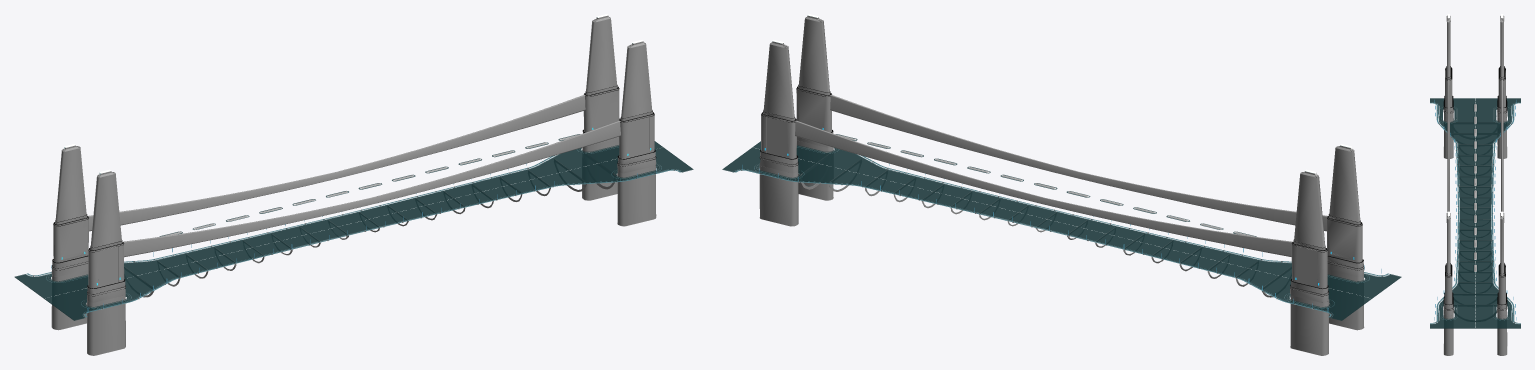
Rendered from bridge.glb.
3 renders of one model, left to right at view 1: azimuth 30°, elevation 25°; view 2: azimuth 150°, elevation 25°; view 3: azimuth 270°, elevation 25°, orthographic. The views are drawn at different scales.
Visible parts, largest first — view 1: Cylinder.001_Matte Steel_0, Cube_Glass Road_0, Cylinder.002_Matte Steel_0, Cube_Dim Neon_0, Cube.001_Matte Steel_0, Cylinder.001_Gloss Black_0, Cylinder.003_Matte Steel_0, Cylinder.003_Glass Road_0; view 2: Cylinder.001_Matte Steel_0, Cube_Glass Road_0, Cylinder.002_Matte Steel_0, Cube_Dim Neon_0, Cube.001_Matte Steel_0, Cylinder.001_Gloss Black_0, Cylinder.003_Matte Steel_0, Cylinder.003_Glass Road_0; view 3: Cube_Glass Road_0, Cylinder.001_Matte Steel_0, Cube_Dim Neon_0, Cylinder.002_Matte Steel_0, Cylinder.001_Gloss Black_0, Cube.001_Matte Steel_0, Cylinder.003_Matte Steel_0, Cylinder.003_Glass Road_0, Cylinder.004_Flag Light_0.
Boxes of the visible parts, bbox=[...] form: Cylinder.001_Matte Steel_0: bbox=[51, 15, 656, 355]; Cube_Glass Road_0: bbox=[14, 141, 693, 320]; Cylinder.002_Matte Steel_0: bbox=[82, 94, 622, 257]; Cube_Dim Neon_0: bbox=[25, 147, 682, 317]; Cube.001_Matte Steel_0: bbox=[124, 151, 615, 297]; Cylinder.001_Gloss Black_0: bbox=[51, 85, 656, 296]; Cylinder.003_Matte Steel_0: bbox=[161, 134, 579, 236]; Cylinder.003_Glass Road_0: bbox=[159, 134, 579, 236]; Cylinder.001_Matte Steel_0: bbox=[759, 15, 1364, 355]; Cube_Glass Road_0: bbox=[722, 141, 1401, 320]; Cylinder.002_Matte Steel_0: bbox=[789, 94, 1333, 256]; Cube_Dim Neon_0: bbox=[733, 147, 1390, 317]; Cube.001_Matte Steel_0: bbox=[800, 152, 1290, 297]; Cylinder.001_Gloss Black_0: bbox=[759, 85, 1364, 296]; Cylinder.003_Matte Steel_0: bbox=[836, 134, 1254, 236]; Cylinder.003_Glass Road_0: bbox=[836, 134, 1256, 236]; Cube_Glass Road_0: bbox=[1430, 98, 1520, 328]; Cylinder.001_Matte Steel_0: bbox=[1443, 15, 1507, 355]; Cube_Dim Neon_0: bbox=[1430, 102, 1520, 323]; Cylinder.002_Matte Steel_0: bbox=[1447, 78, 1503, 273]; Cylinder.001_Gloss Black_0: bbox=[1443, 66, 1507, 310]; Cube.001_Matte Steel_0: bbox=[1450, 122, 1500, 316]; Cylinder.003_Matte Steel_0: bbox=[1474, 104, 1476, 271]; Cylinder.003_Glass Road_0: bbox=[1473, 103, 1477, 272]; Cylinder.004_Flag Light_0: bbox=[1434, 100, 1516, 320].
Bounding box in the file's own units: 387 × 107 × 64.59.
